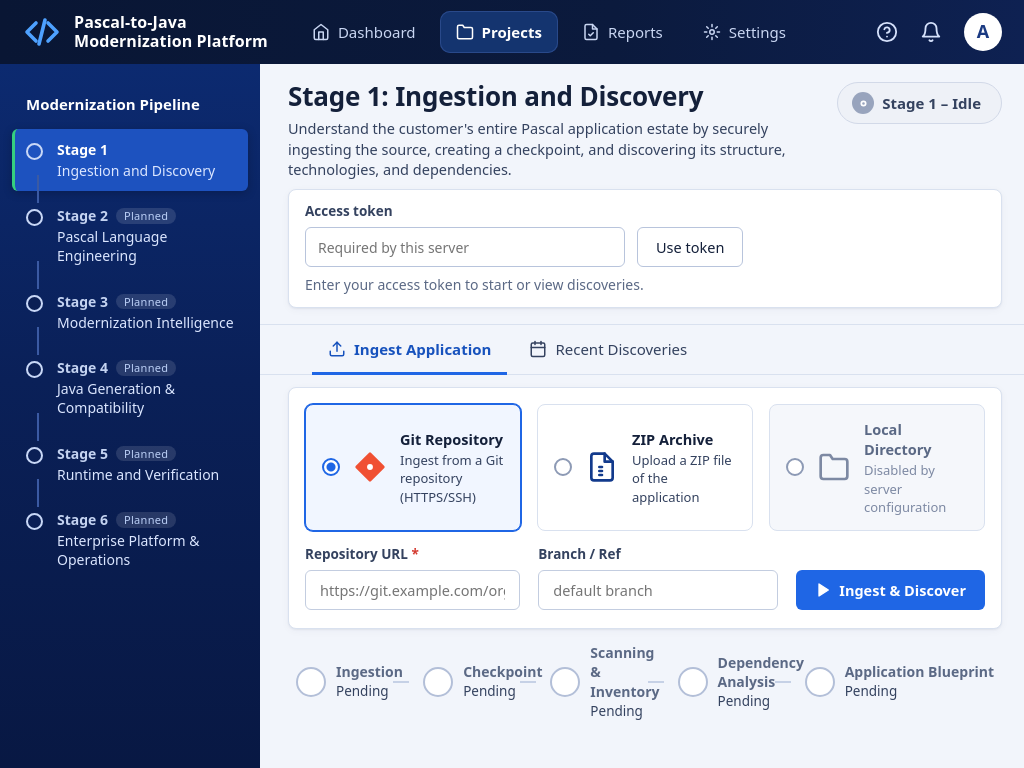
Test: App with auth_required › lets the user clear the token explicitly and ignores blank input
Click the button "Use token" at (690, 247), box [637,227,743,267]
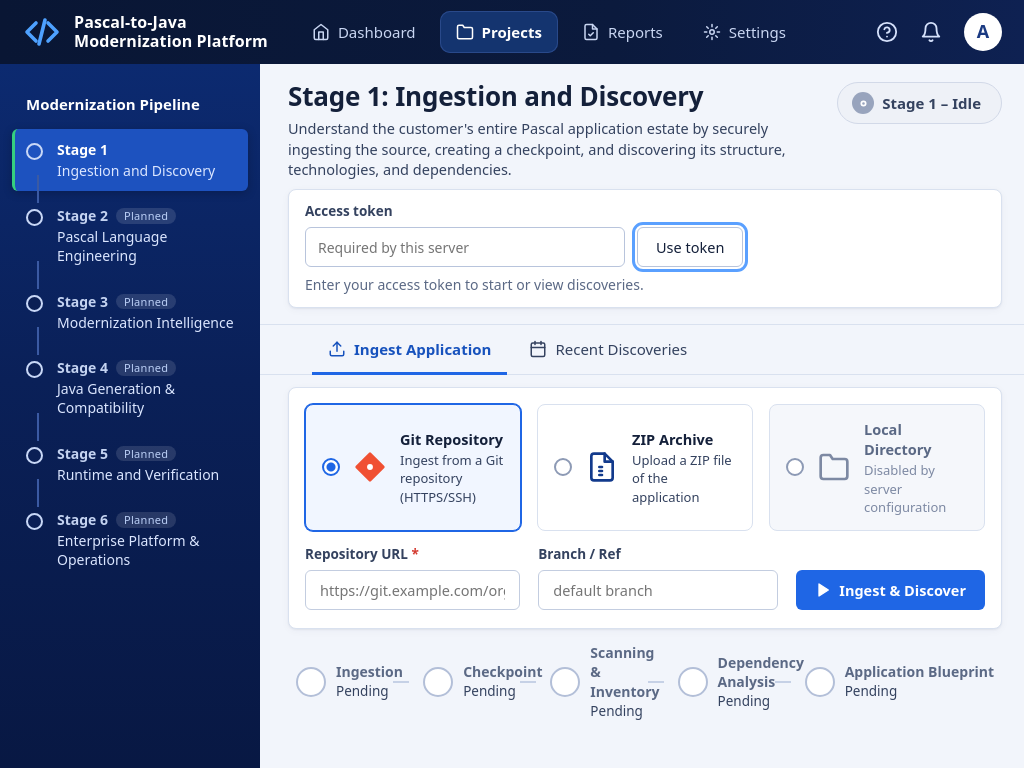
Expected: the button "Clear token" is not shown
Type "abc" into the password field labelled "Access token" at (465, 247), box [305,227,625,267]
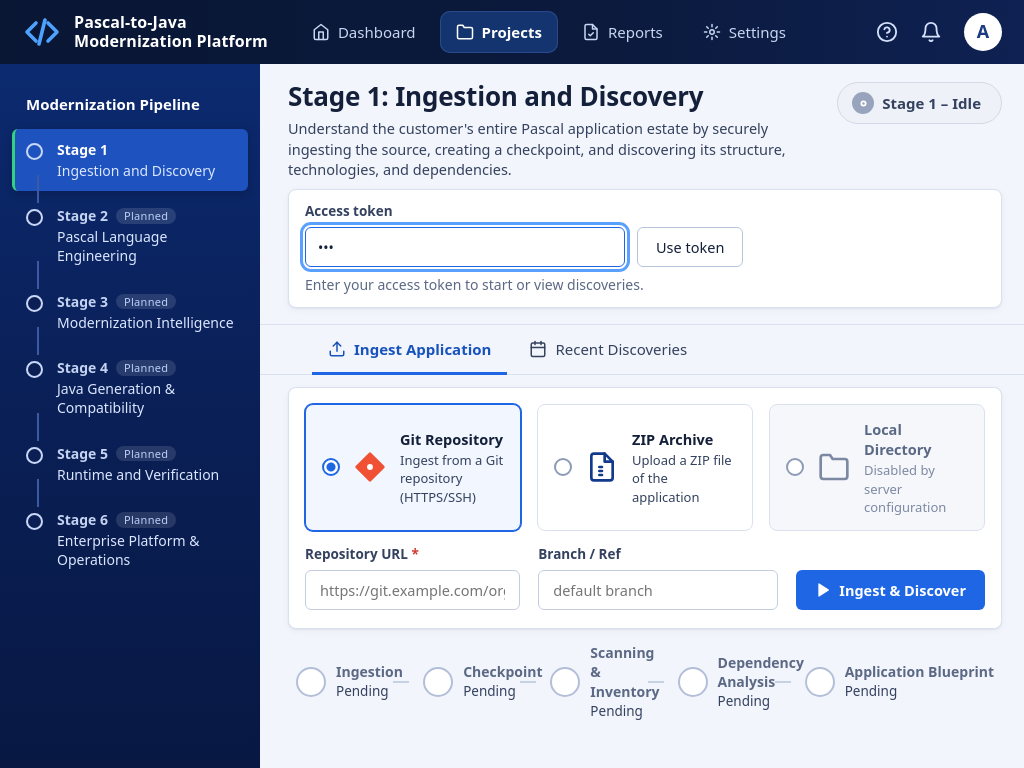
Click the button "Use token" at (690, 247), box [637,227,743,267]
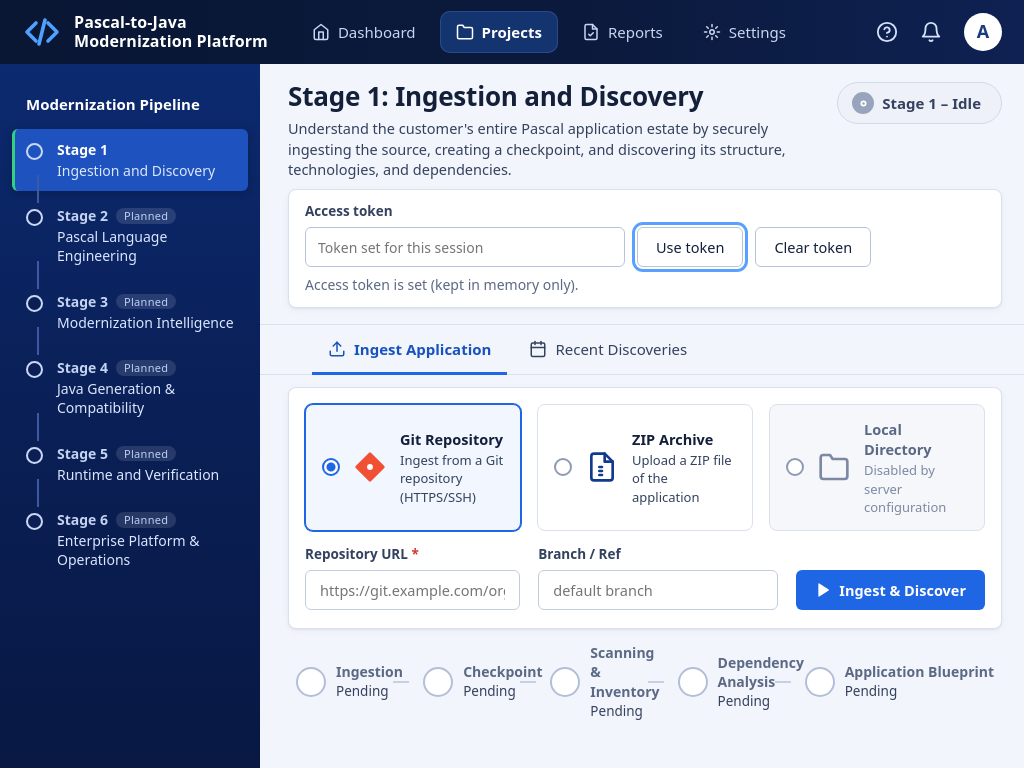
Click the button "Clear token" at (813, 247), box [755,227,871,267]
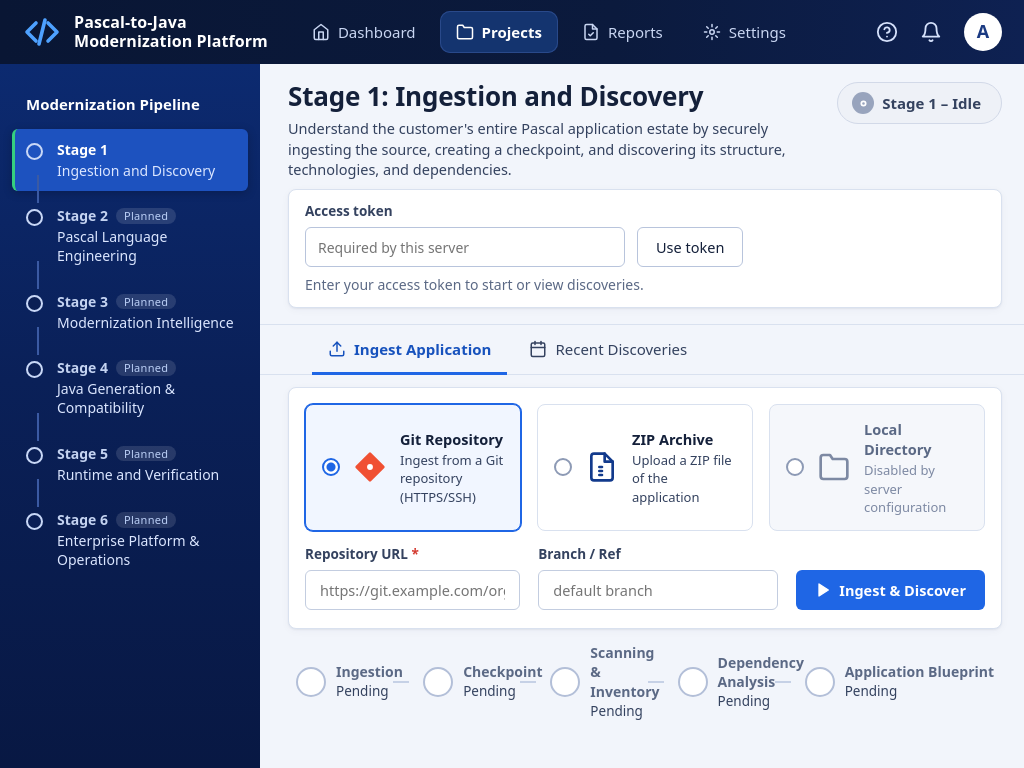
Now the button "Clear token" is gone
